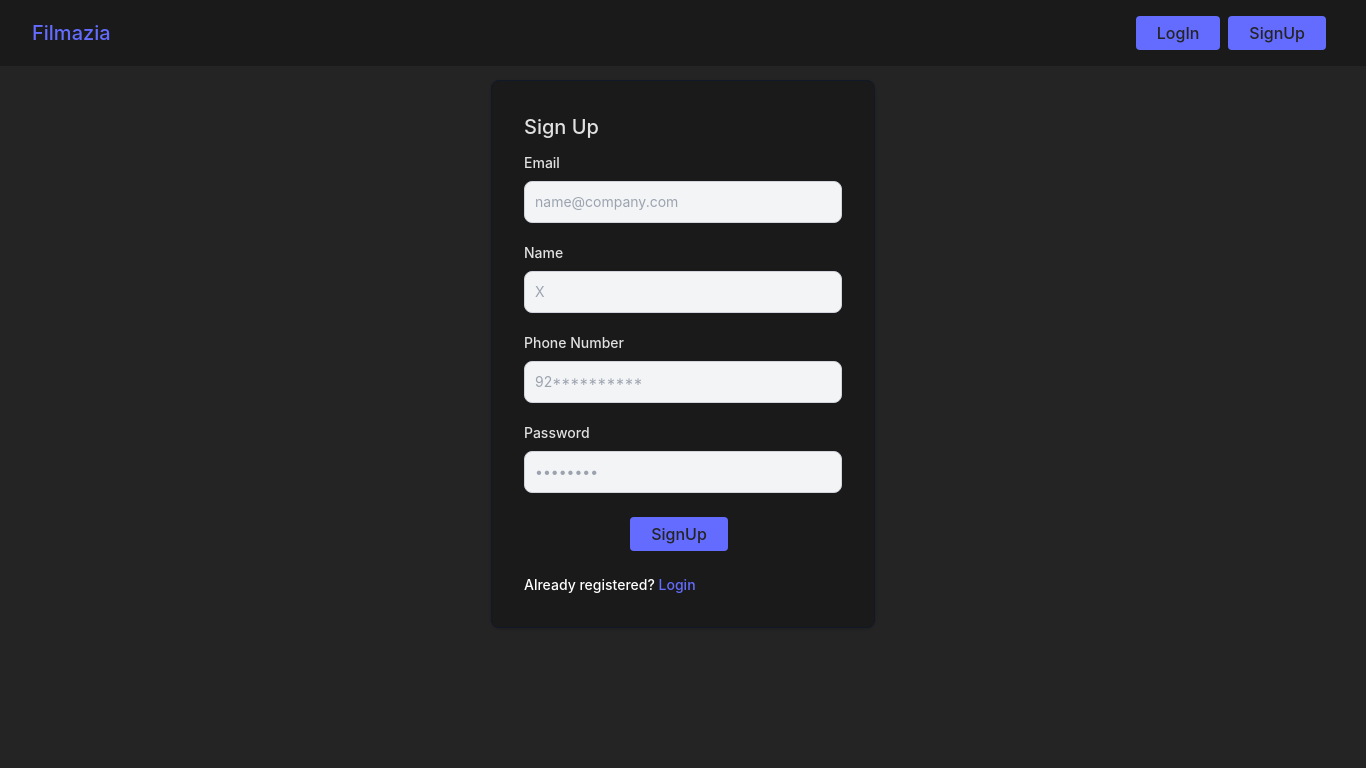
Test case: SignUp Tests › Validation error for missing password
This screenshot has width=1366, height=768.
In the field with placeholder "X": (683, 292) [524,271,842,313], type "Username"
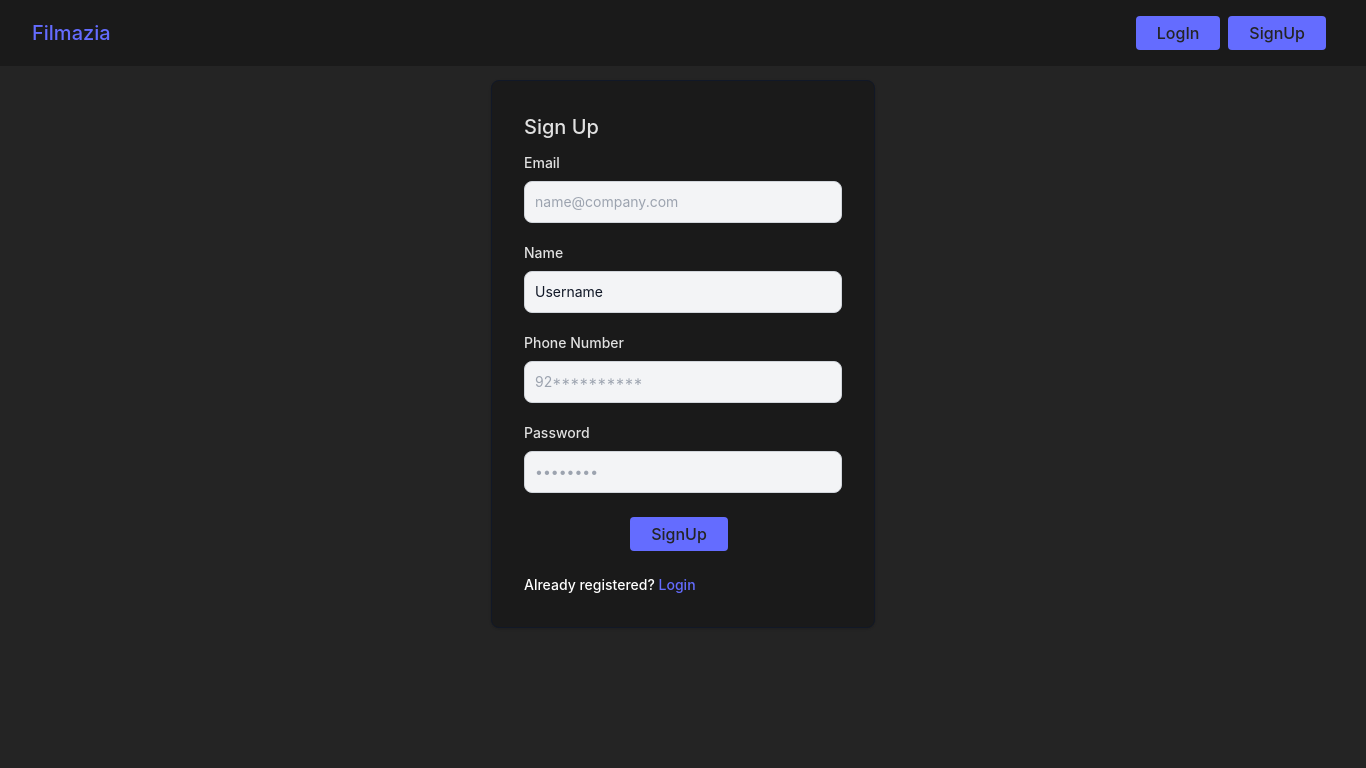
Click the button "SignUp" below "Password": (679, 534) [630,517,728,551]
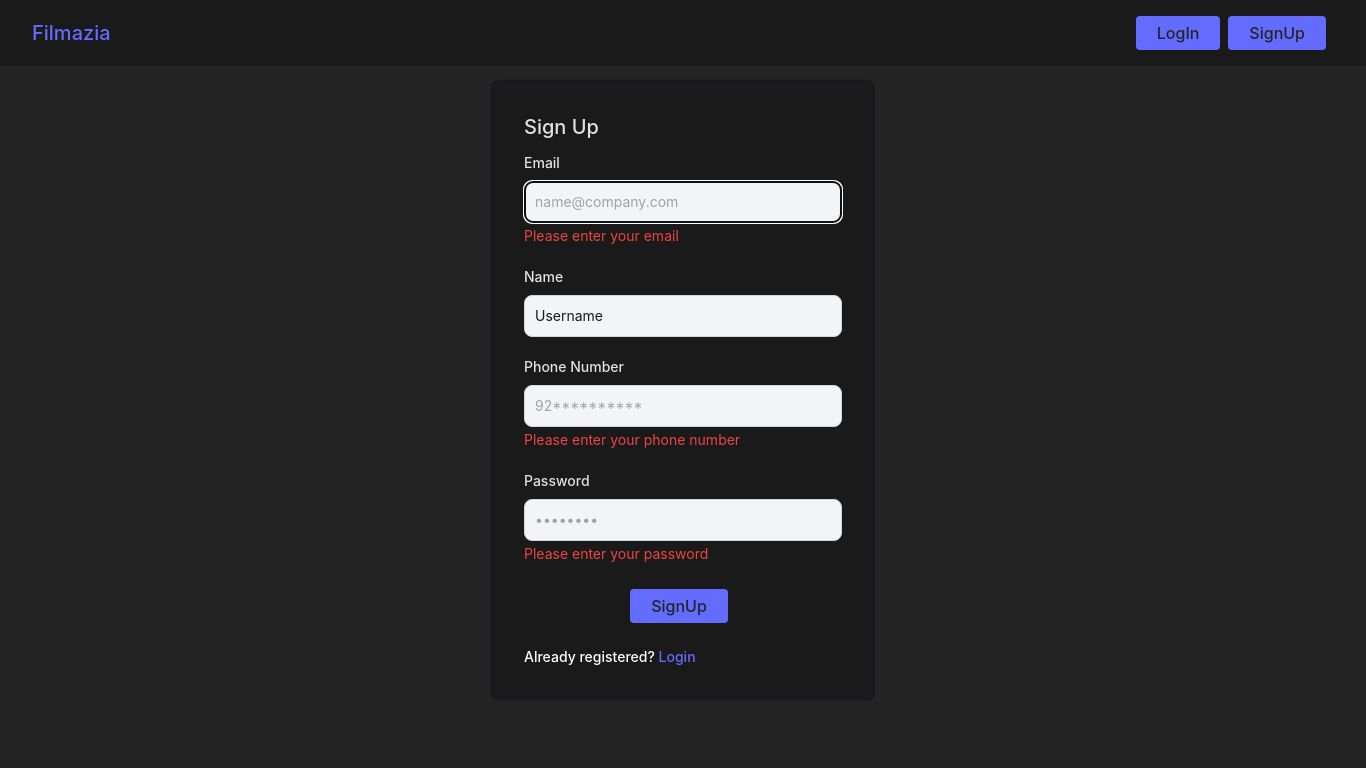
Expected: the text "Please enter your password" is shown, [524,545,708,562]
